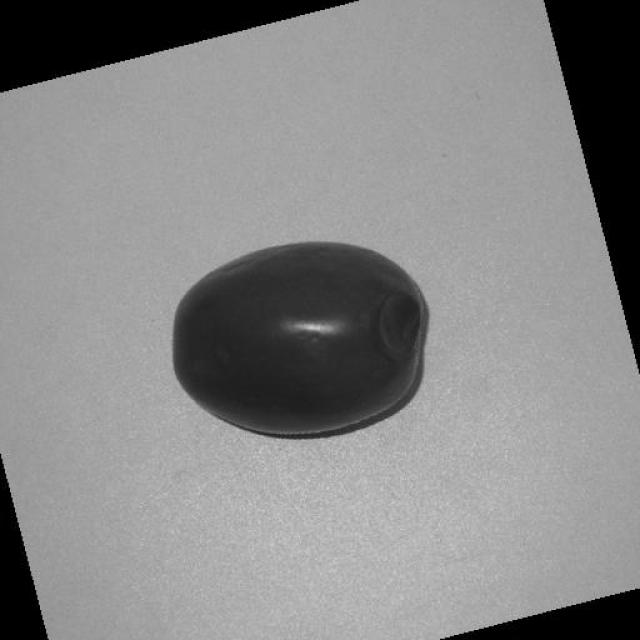Stale_tomato: (168, 235, 438, 414)
